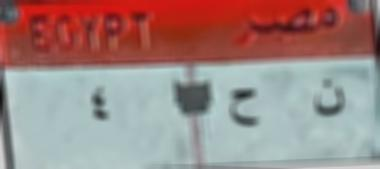4: (76, 84, 128, 126)
7aa: (224, 84, 270, 136)
noon: (308, 76, 349, 126)
